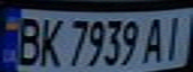3: (103, 17, 124, 68)
7: (63, 16, 87, 68)
9: (118, 16, 145, 66), (84, 16, 106, 68)
A: (139, 15, 169, 64)
B: (9, 12, 45, 68)
I: (160, 12, 190, 63)
K: (33, 13, 66, 69)
